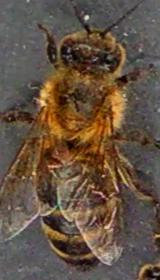varroa_mite: (34, 148, 72, 171)
